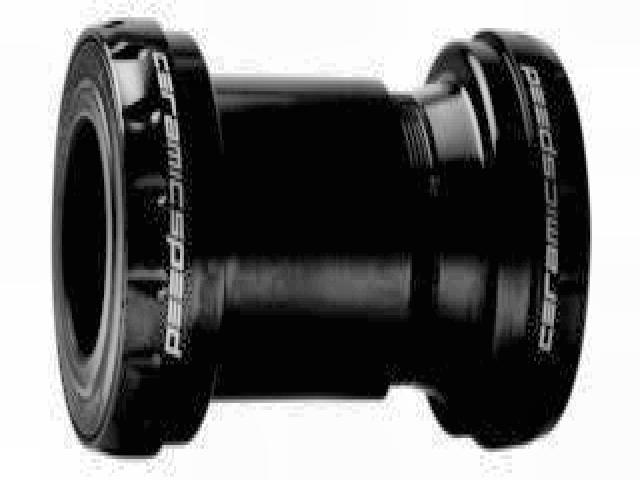bottom_bracket: (50, 13, 592, 464)
